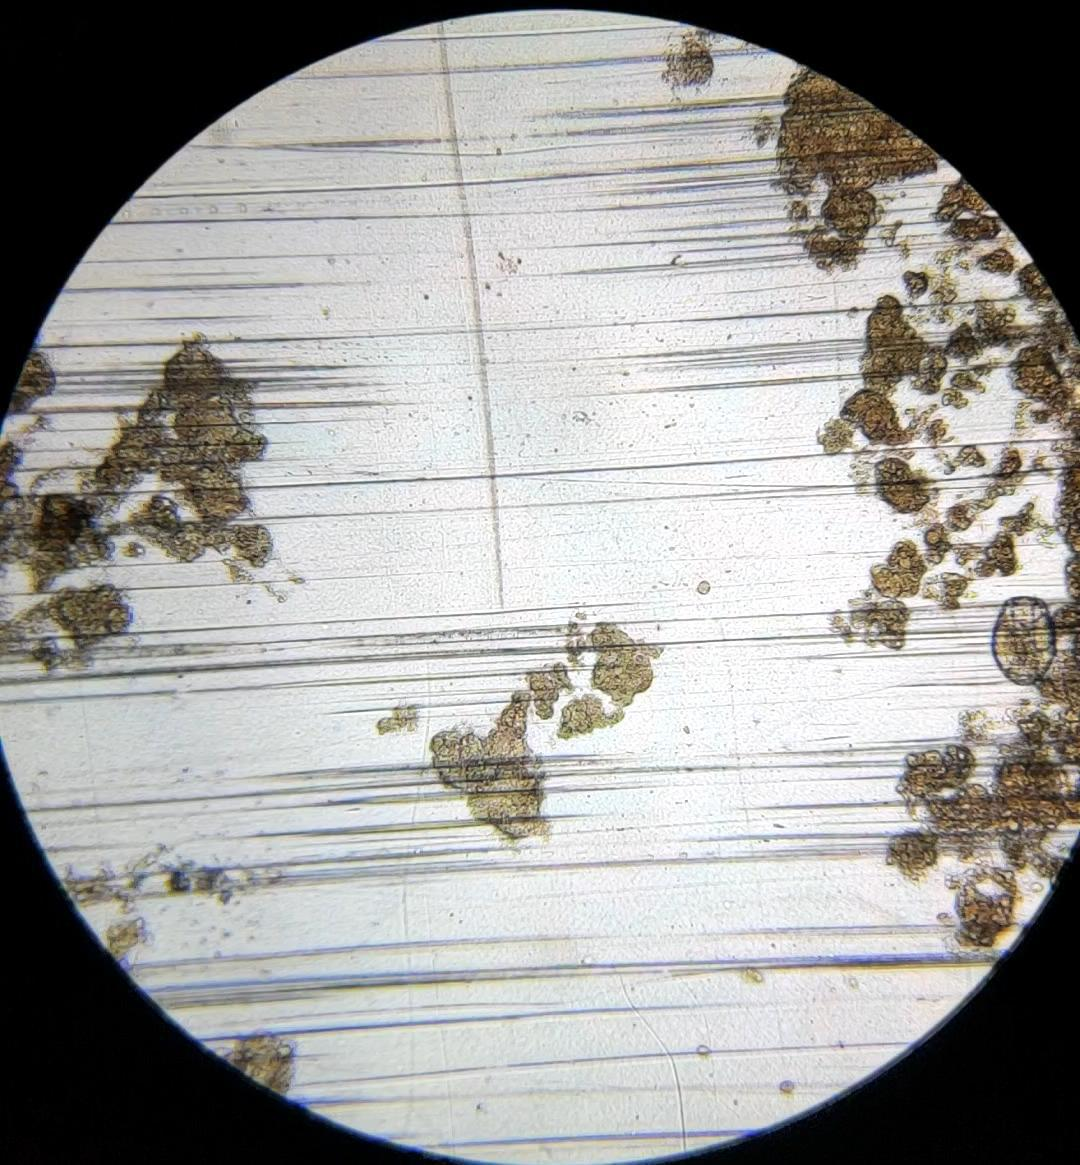Do: (993, 597, 1056, 686)
